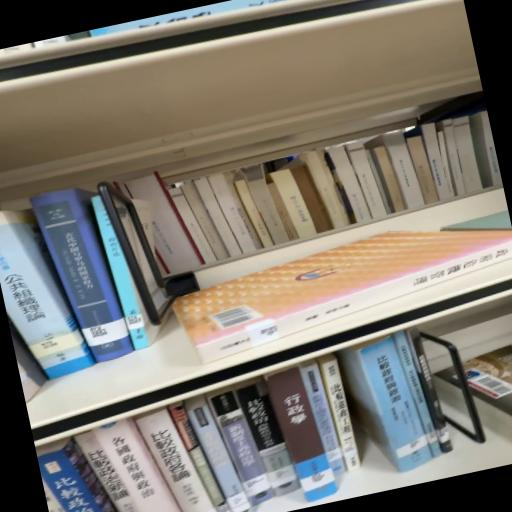flat: (174, 230, 512, 363)
